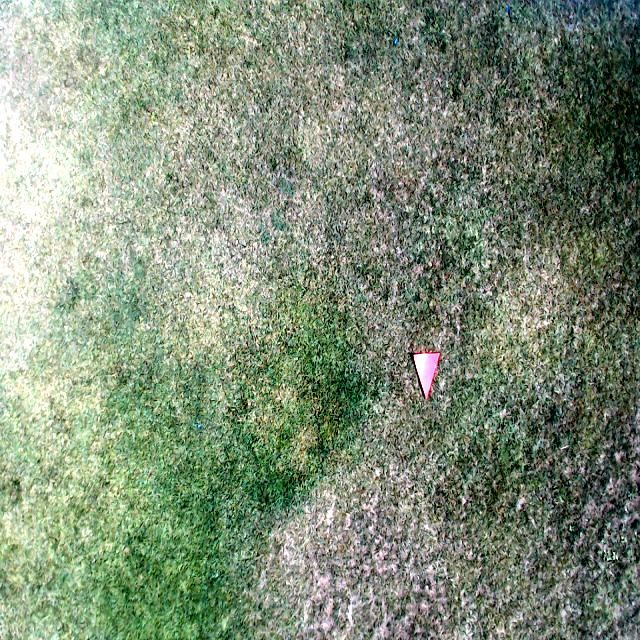red_triangle: (411, 352, 440, 398)
